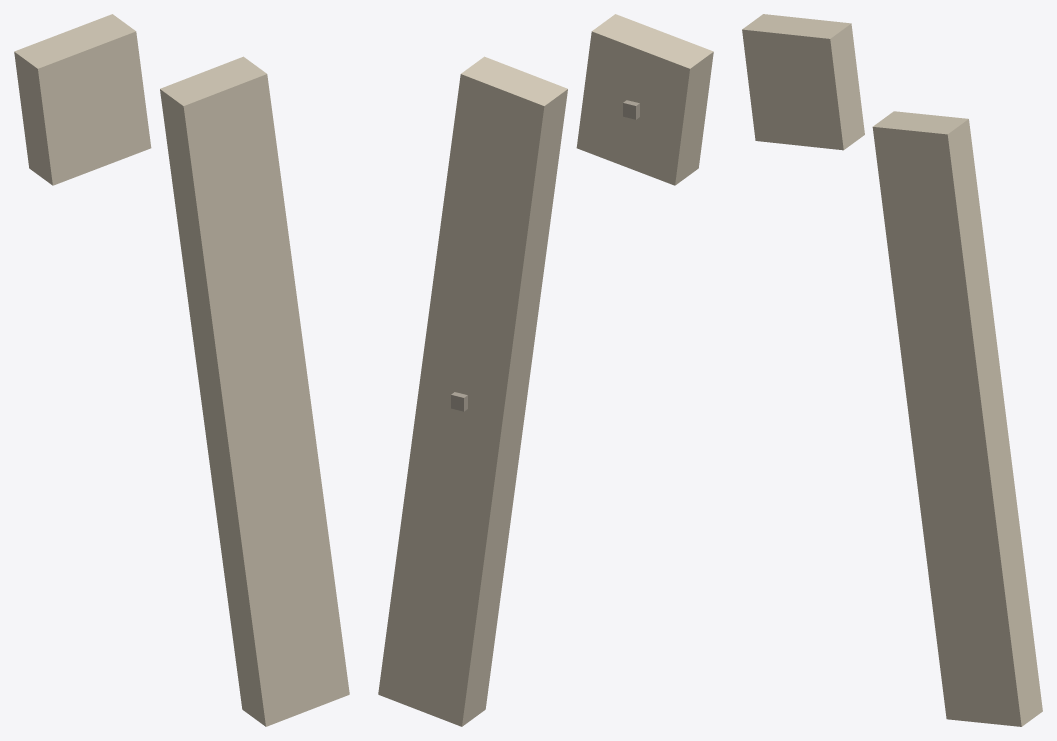
The model's file is historic-palestine-01_17_3433_3114.glb.
3 renders of one model, left to right at view 1: azimuth 30°, elevation 25°; view 2: azimuth 150°, elevation 25°; view 3: azimuth 330°, elevation 25°, orthographic. The views are drawn at different scales.
Visible parts, largest first — view 1: Building_.001, Building_; view 2: Building_.001, Building_; view 3: Building_.001, Building_.
Part boxes in pixels (bbox=[...]): Building_.001: bbox=[160, 56, 349, 726]; Building_: bbox=[14, 14, 151, 185]; Building_.001: bbox=[378, 56, 567, 726]; Building_: bbox=[576, 14, 713, 185]; Building_.001: bbox=[872, 111, 1042, 726]; Building_: bbox=[742, 14, 864, 150].
Size of the model in its own units: 56.94 by 127 by 8.7.
